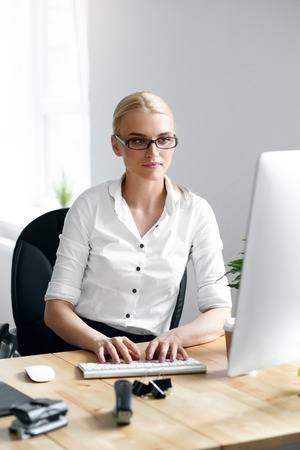F_shirt: (44, 176, 235, 342)
